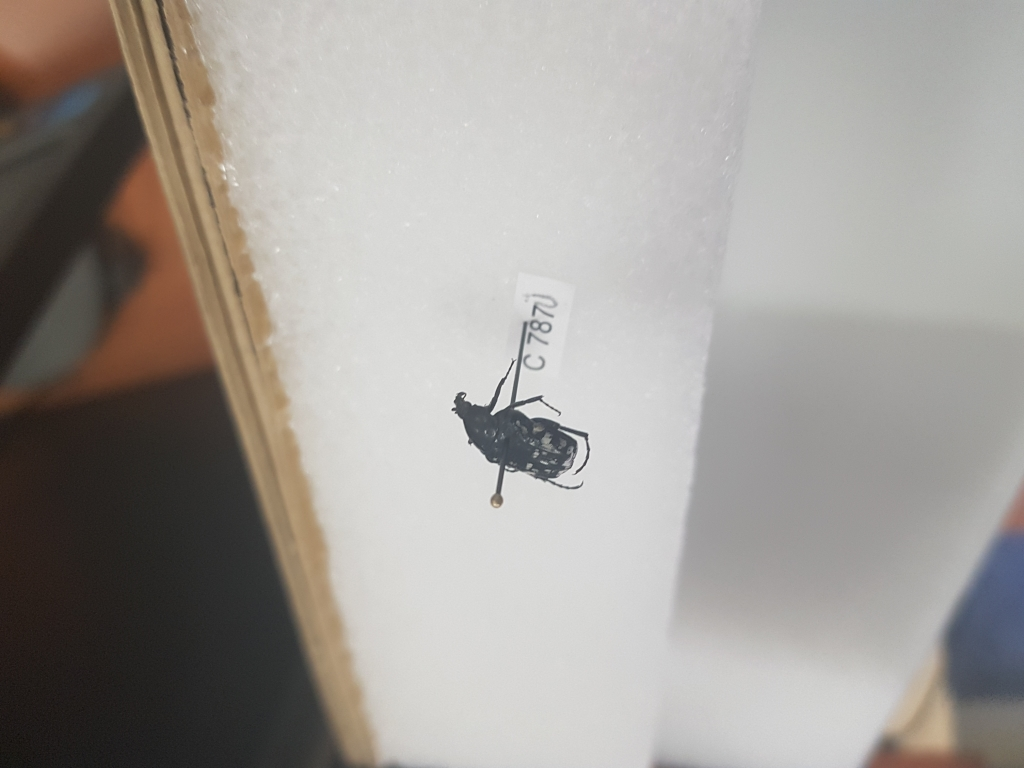Oxythyrea_albopicta: (446, 355, 606, 495)
